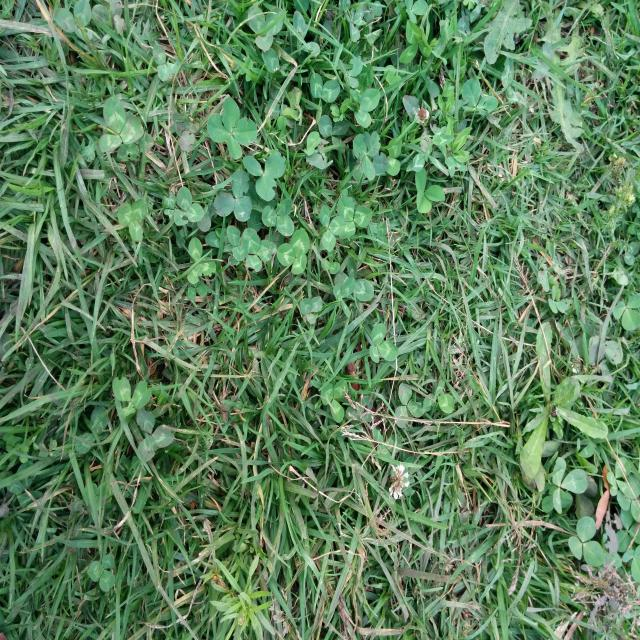Four Leaf Clover: (207, 96, 258, 160)
